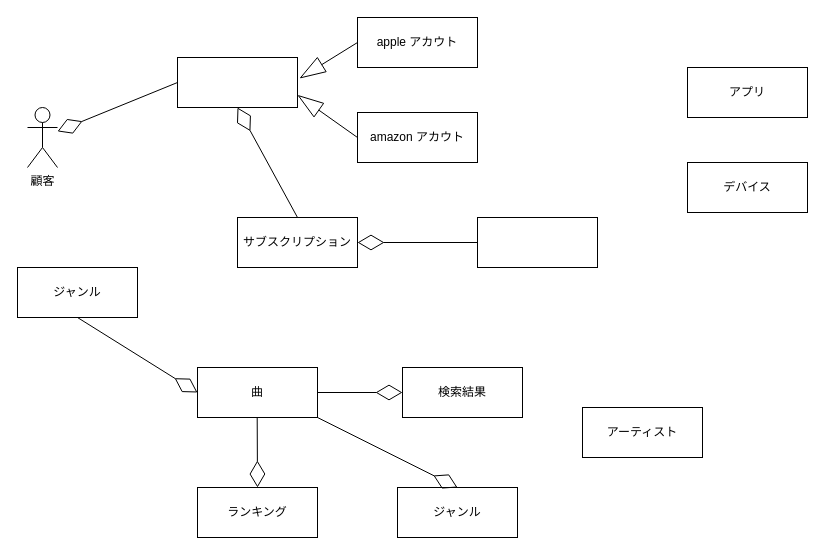
This 825x555 diagram has some shape labels left out. The box of each missing label's shape, as (x1, y1, x2, y2) in pixels:
クレジットカード: (476, 216, 598, 268)
顧客アカウント: (176, 56, 298, 108)
